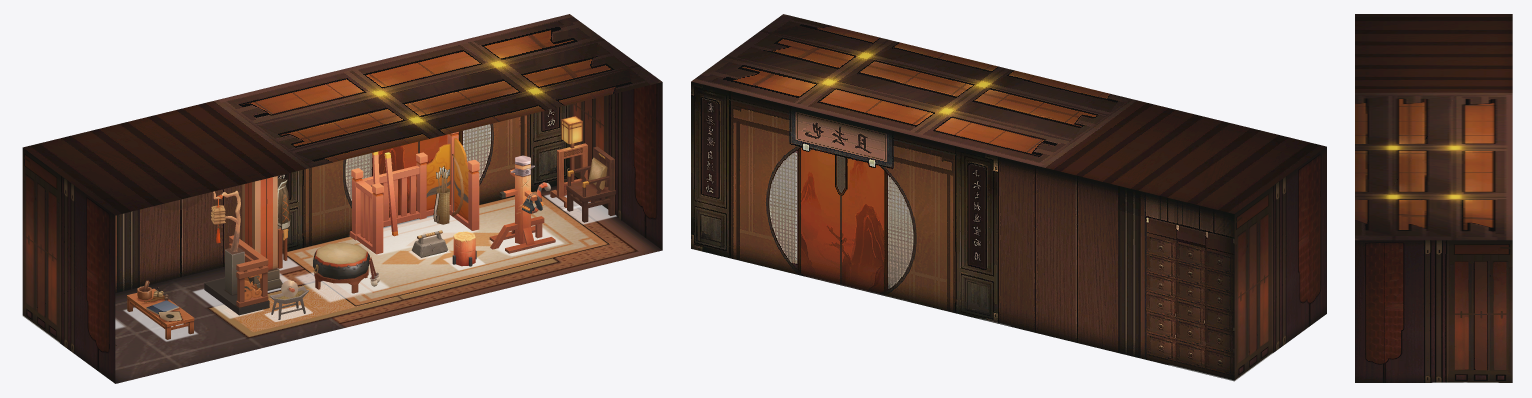
File: martialClub.glb
The picture shows the model from 3 angles, left to right: view 1: azimuth 30°, elevation 25°; view 2: azimuth 150°, elevation 25°; view 3: azimuth 270°, elevation 25°; orthographic projection. The views are drawn at different scales.
Visible parts, largest first — view 1: ROOM_room, ROOM_floor, furni_martialClub_carpet_01, furni_martialClub_weaponRack_01, furni_martialClub_pillar_01, furni_martialClub_plantShelf_01, furni_martialClub_Dummy_01, furni_martialClub_drum_01, furni_martialClub_chair_01, shadow_01.008, furni_martialClub_medicineTable_01, furni_martialClub_floorLamp_01 (+8 smaller); view 2: ROOM_room, ROOM_LDoor; view 3: ROOM_room, ROOM_RDoor.
Boxes of the visible parts, x1=… form: ROOM_room: x1=22, y1=14, x2=662, y2=383; ROOM_floor: x1=115, y1=185, x2=662, y2=383; furni_martialClub_carpet_01: x1=283, y1=190, x2=609, y2=306; furni_martialClub_weaponRack_01: x1=349, y1=132, x2=479, y2=254; furni_martialClub_pillar_01: x1=242, y1=176, x2=290, y2=290; furni_martialClub_plantShelf_01: x1=204, y1=190, x2=269, y2=315; furni_martialClub_Dummy_01: x1=489, y1=155, x2=555, y2=253; furni_martialClub_drum_01: x1=313, y1=242, x2=380, y2=293; furni_martialClub_chair_01: x1=566, y1=146, x2=615, y2=222; shadow_01.008: x1=356, y1=215, x2=478, y2=255; furni_martialClub_medicineTable_01: x1=127, y1=280, x2=194, y2=339; furni_martialClub_floorLamp_01: x1=550, y1=116, x2=590, y2=207; ROOM_room: x1=691, y1=14, x2=1326, y2=381; ROOM_LDoor: x1=1294, y1=248, x2=1313, y2=337; ROOM_room: x1=1355, y1=14, x2=1512, y2=382; ROOM_RDoor: x1=1378, y1=318, x2=1410, y2=382.
Bounding box in the file's own units: 7.61 × 2.2 × 2.27.
Materials: 6 (6 with a texture image).
